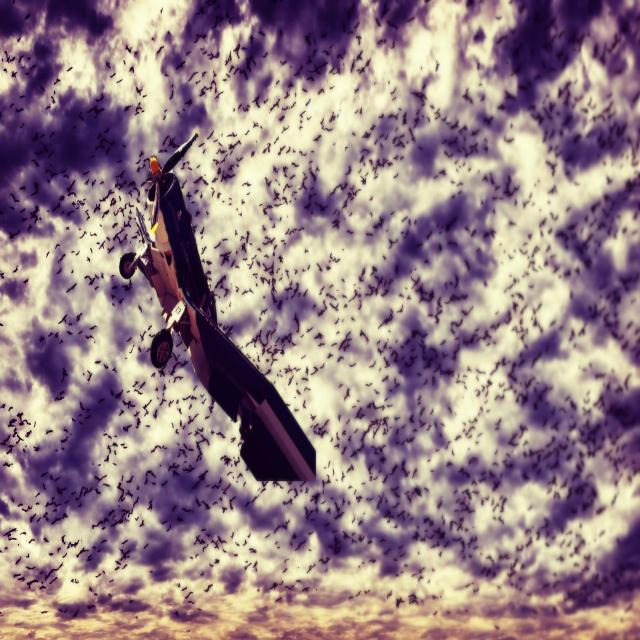airplane: (118, 130, 317, 485)
